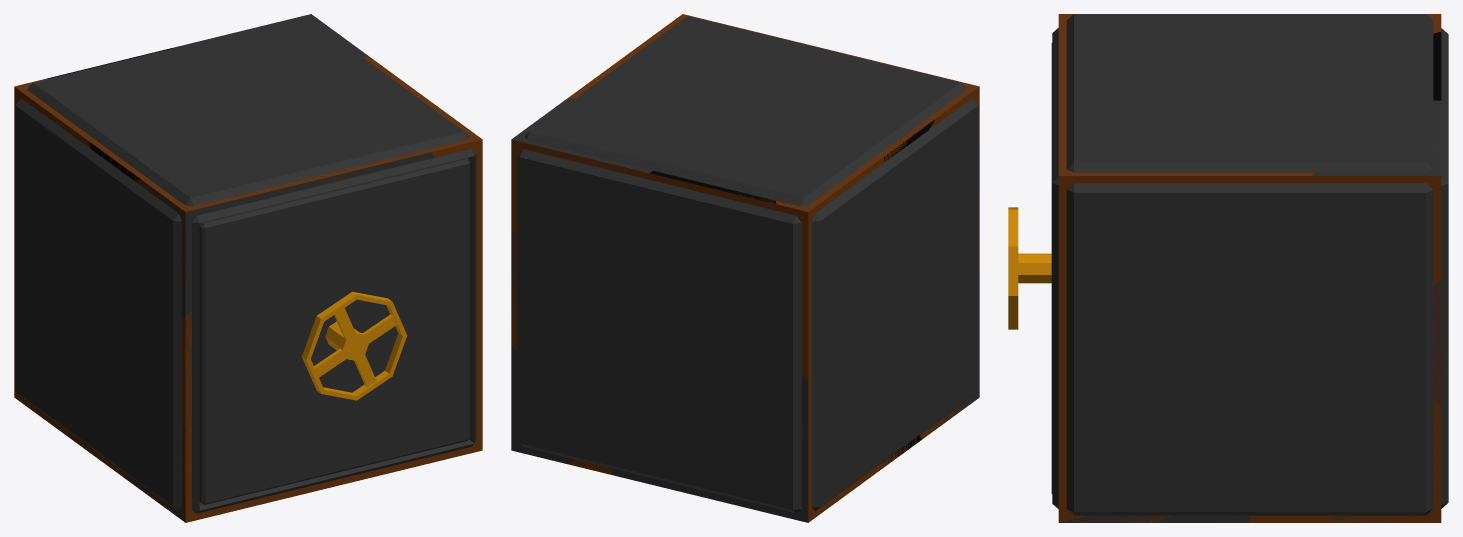
File: SafeBox.fbx
3 views of the same model, side by side, from view 1: azimuth 30°, elevation 25°; view 2: azimuth 150°, elevation 25°; view 3: azimuth 270°, elevation 25° (orthographic). The views are drawn at different scales.
Parts seen in each view (by area): view 1: Safebox, FractureSB, FractureSB_cell.024, FractureSB_cell.011, FractureSB_cell.013, FractureSB_cell.020, FractureSB_cell.012; view 2: Safebox, FractureSB, FractureSB_cell.025, FractureSB_cell.022, FractureSB_cell.021, FractureSB_cell.027; view 3: Safebox, FractureSB, FractureSB_cell.011, FractureSB_cell.007, FractureSB_cell.027, FractureSB_cell.003, FractureSB_cell.005, FractureSB_cell.006, FractureSB_cell.016, FractureSB_cell.
Boxes of the visible parts, box(x1,y1,x2,y2) form: Safebox: box(15, 16, 476, 513); FractureSB: box(14, 26, 482, 522); FractureSB_cell.024: box(136, 180, 218, 317); FractureSB_cell.011: box(432, 139, 482, 233); FractureSB_cell.013: box(218, 173, 344, 210); FractureSB_cell.020: box(126, 423, 185, 522); FractureSB_cell.012: box(343, 152, 433, 179); Safebox: box(517, 16, 978, 513); FractureSB: box(511, 14, 979, 522); FractureSB_cell.025: box(758, 376, 808, 522); FractureSB_cell.022: box(511, 347, 574, 463); FractureSB_cell.021: box(611, 468, 726, 502); FractureSB_cell.027: box(511, 97, 573, 232); Safebox: box(1008, 14, 1448, 515); FractureSB: box(1058, 14, 1441, 522); FractureSB_cell.011: box(1058, 176, 1190, 283); FractureSB_cell.007: box(1433, 281, 1441, 405); FractureSB_cell.027: box(1312, 146, 1441, 175); FractureSB_cell.003: box(1059, 515, 1169, 522); FractureSB_cell.005: box(1250, 515, 1341, 522); FractureSB_cell.006: box(1158, 515, 1249, 522); FractureSB_cell.016: box(1433, 32, 1441, 100); FractureSB_cell: box(1186, 172, 1313, 175).
Size of the model in its own units: 2.08 by 2.08 by 2.3.
